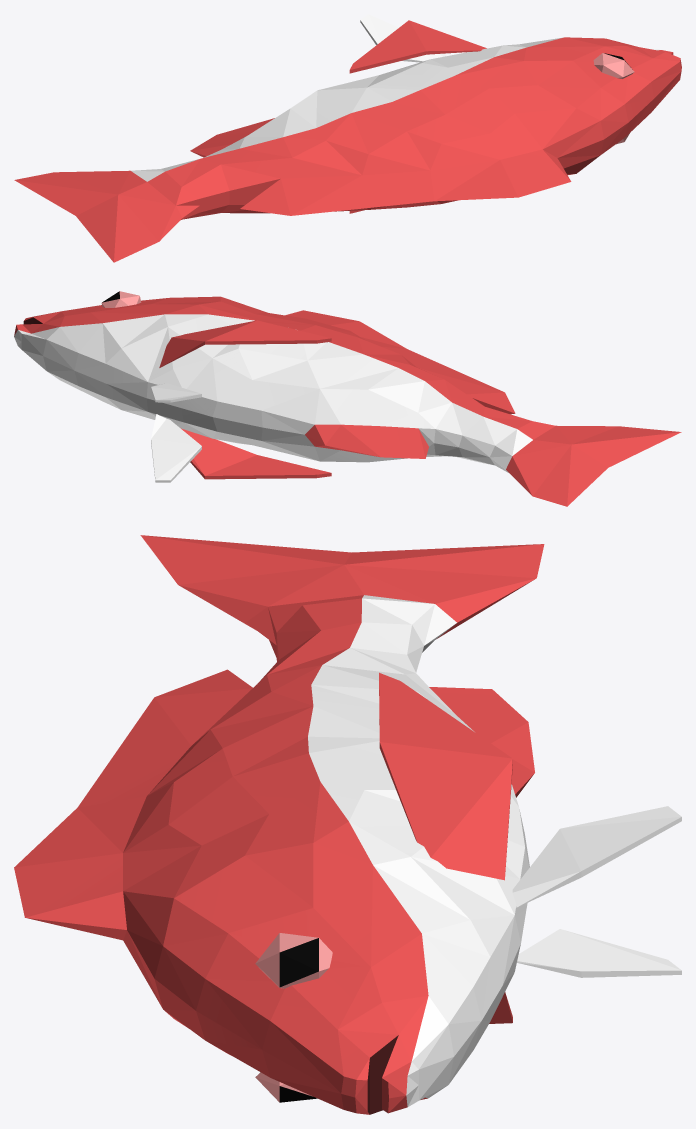
Rendered from RedSnapper.glb.
3 renders of one model, top to bottom at view 1: azimuth 30°, elevation 25°; view 2: azimuth 150°, elevation 25°; view 3: azimuth 270°, elevation 25°, orthographic. The views are drawn at different scales.
Parts seen in each view (by area): view 1: RedSnapper; view 2: RedSnapper; view 3: RedSnapper.
Boxes of the visible parts, x1,y1,x2,y2 form: RedSnapper: [14, 14, 681, 262]; RedSnapper: [14, 291, 681, 506]; RedSnapper: [14, 535, 681, 1114].
Bounding box in the file's own units: 0.6433 × 0.1409 × 0.3224.
1 material, 1 textured.
